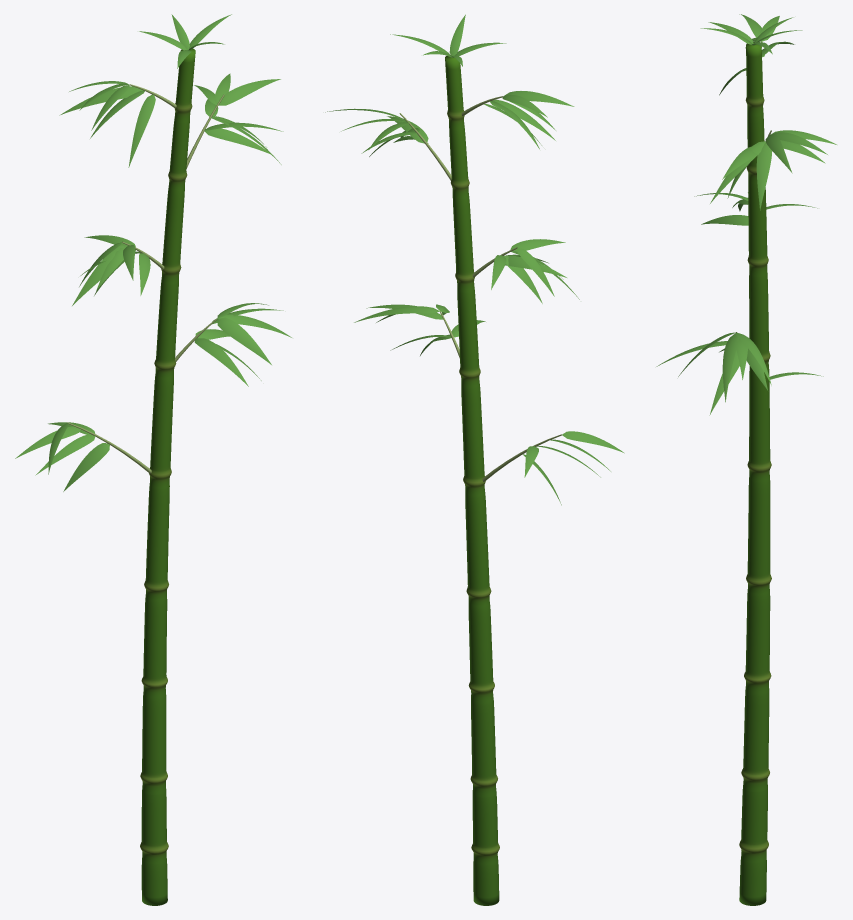
The model's file is BambooGrow3.fbx.
The picture shows the model from 3 angles, left to right: view 1: azimuth 30°, elevation 25°; view 2: azimuth 150°, elevation 25°; view 3: azimuth 270°, elevation 25°; orthographic projection. The views are drawn at different scales.
Parts seen in each view (by area): view 1: Bamboo_Stalk, Bamboo_Leaves, Bamboo_Branches; view 2: Bamboo_Stalk, Bamboo_Leaves, Bamboo_Branches; view 3: Bamboo_Stalk, Bamboo_Leaves.
Boxes of the visible parts, left/top/right/bottom form: Bamboo_Stalk: left=140, top=48, right=195, bottom=905; Bamboo_Leaves: left=15, top=14, right=291, bottom=491; Bamboo_Branches: left=67, top=84, right=224, bottom=473; Bamboo_Stalk: left=445, top=56, right=499, bottom=905; Bamboo_Leaves: left=325, top=14, right=624, bottom=505; Bamboo_Branches: left=399, top=96, right=561, bottom=481; Bamboo_Stalk: left=739, top=42, right=771, bottom=905; Bamboo_Leaves: left=656, top=14, right=836, bottom=415.
Size of the model in its own units: 1.49 by 4.4 by 0.8217.
